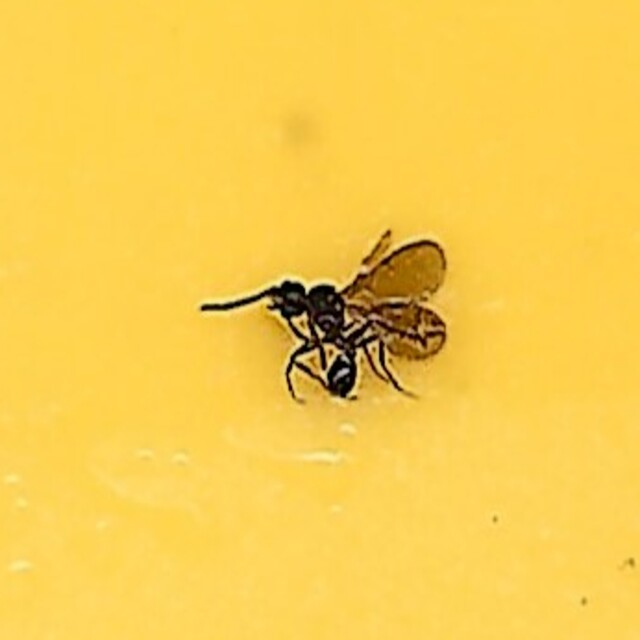Hymenoptera: (185, 229, 455, 411)
